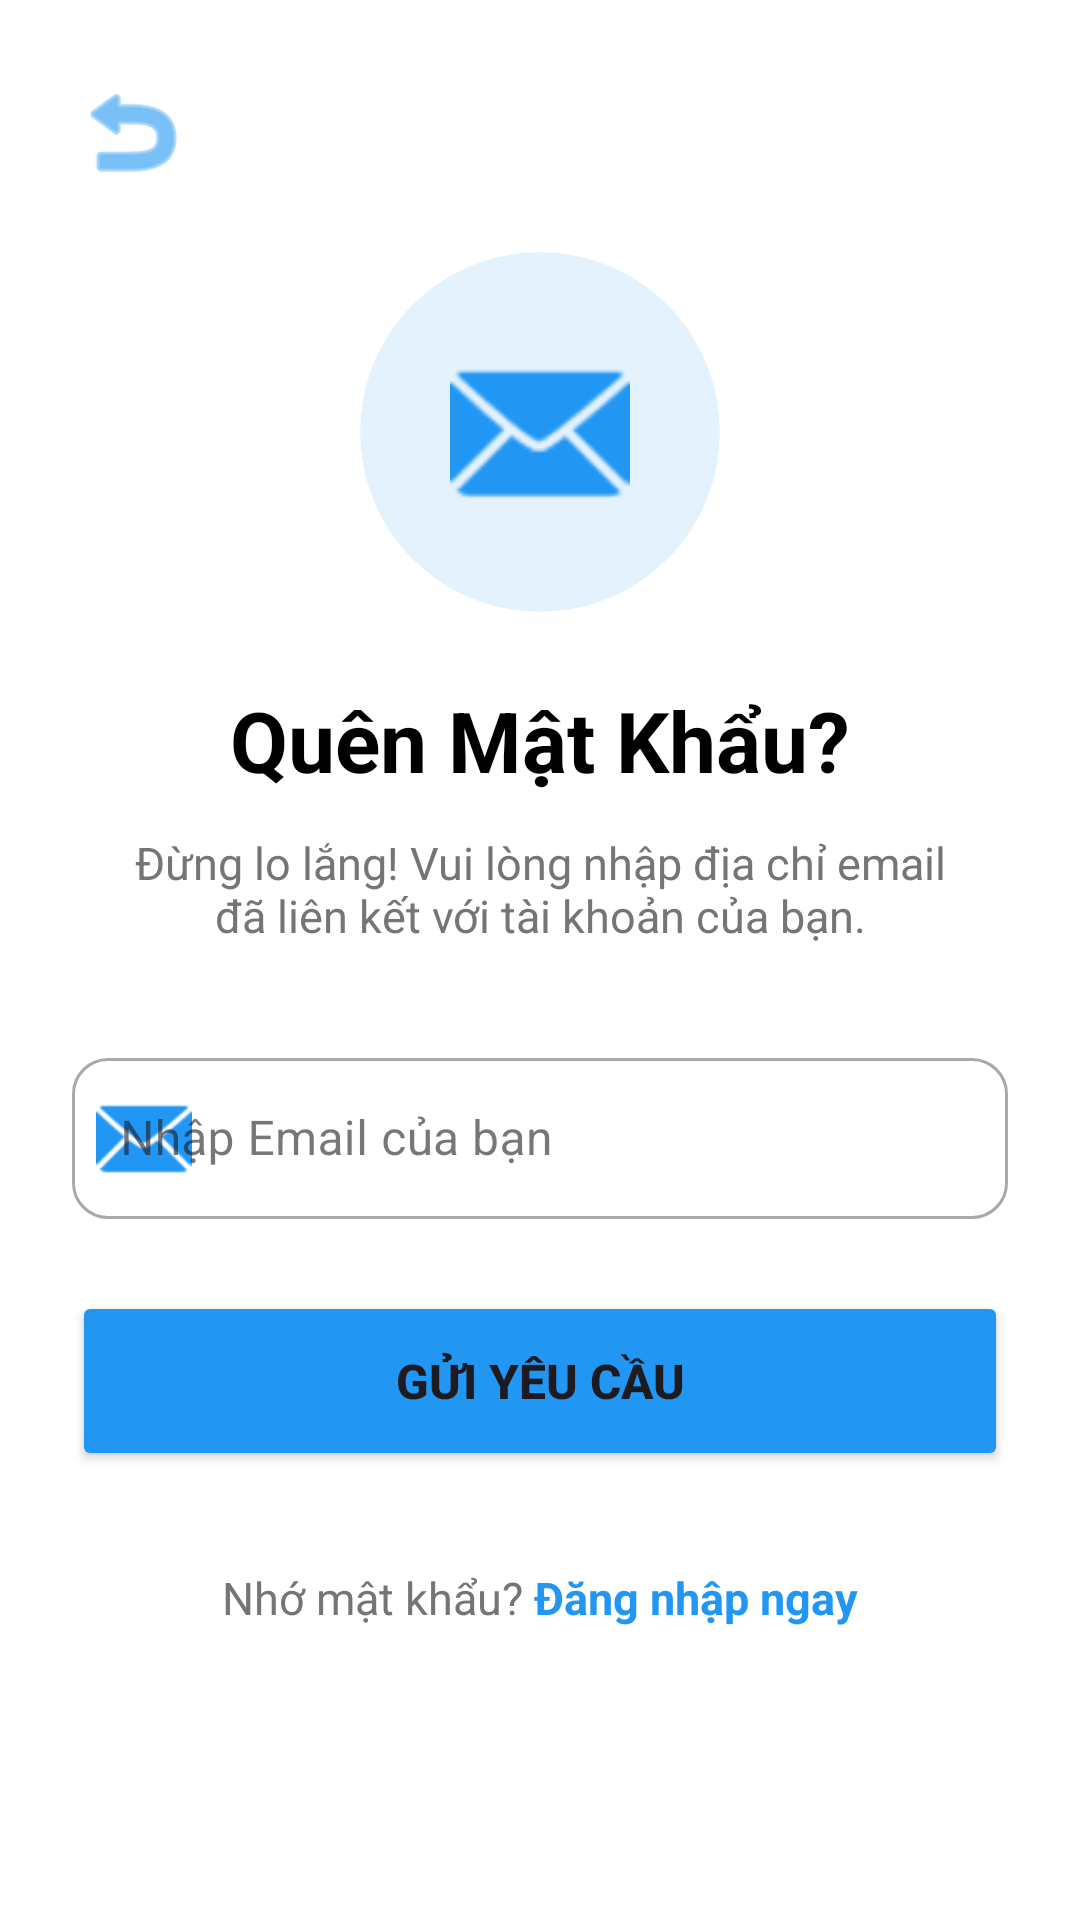

Icon click points for this 1080w x 1920h phone screenshot, format (x,y):
email: (540,434)
revert: (133,133)
